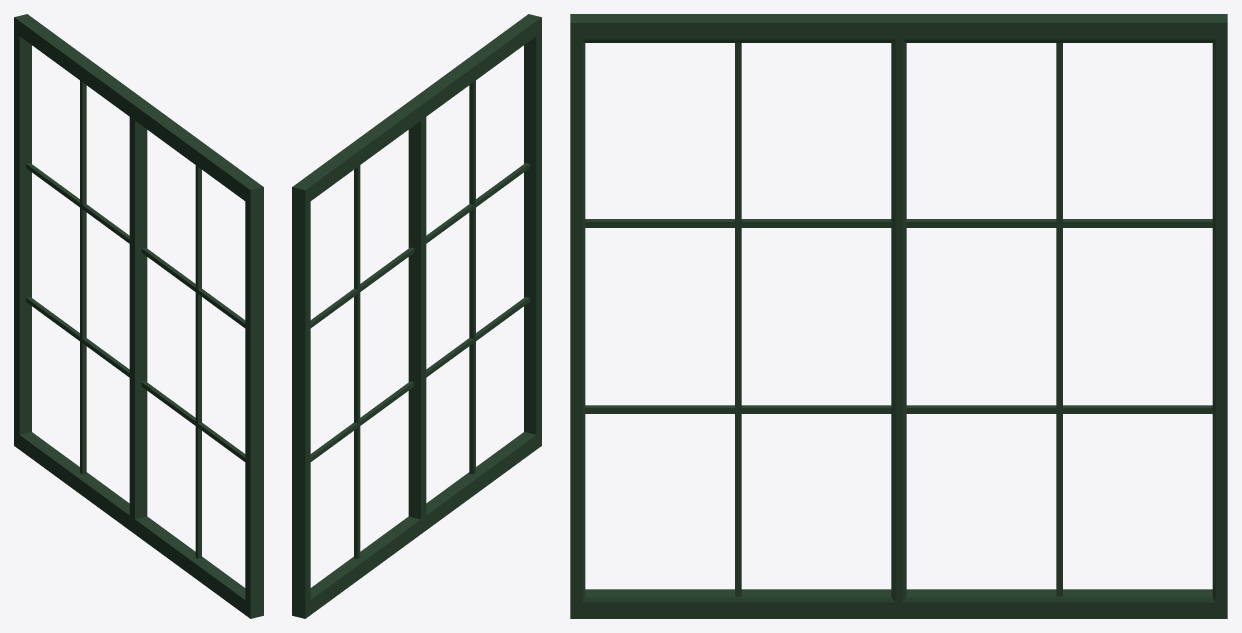
Rendered from gh_roofpiece.gltf.
The picture shows the model from 3 angles, left to right: view 1: azimuth 30°, elevation 25°; view 2: azimuth 150°, elevation 25°; view 3: azimuth 270°, elevation 25°; orthographic projection. The views are drawn at different scales.
Visible parts, largest first — view 1: greenhouse window; view 2: greenhouse window; view 3: greenhouse window.
Boxes of the visible parts, x1,y1,x2,y2 form: greenhouse window: (14,14,263,618); greenhouse window: (292,14,541,618); greenhouse window: (570,14,1227,618).
Bounding box in the file's own units: 0.0648 × 2 × 2.
